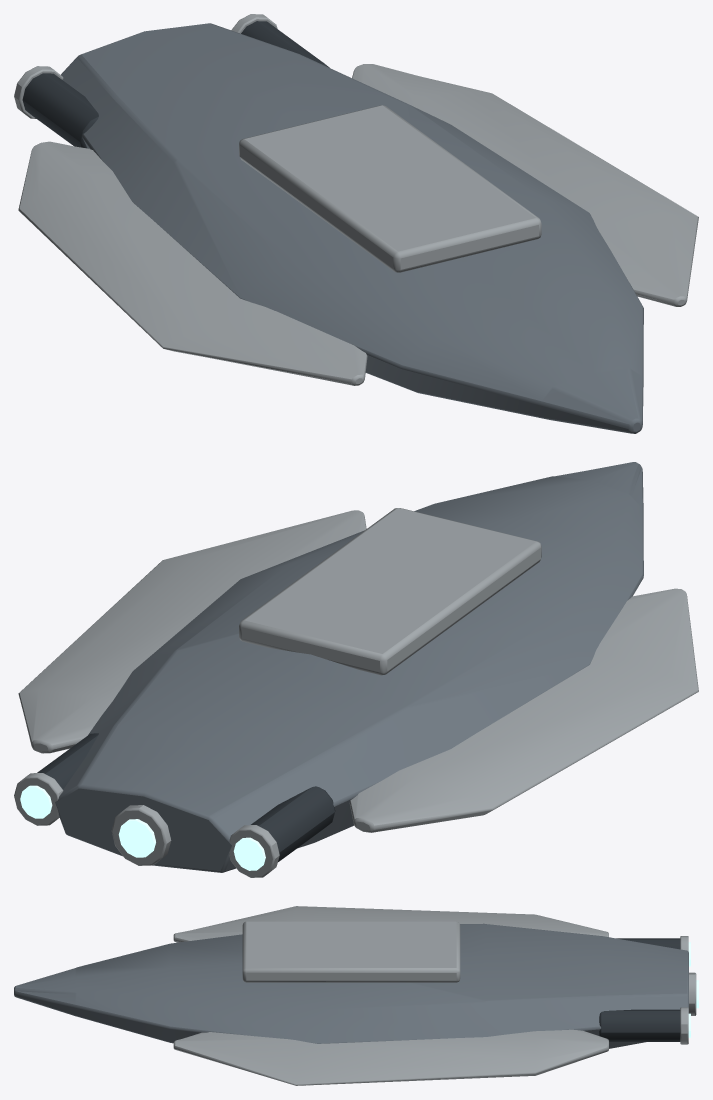
File: QW_CommandShip_LOD2.fbx
3 views of the same model, one above another, from view 1: azimuth 30°, elevation 25°; view 2: azimuth 150°, elevation 25°; view 3: azimuth 270°, elevation 25° (orthographic). The views are drawn at different scales.
Parts seen in each view (by area): view 1: QW_CommandShip_LOD2; view 2: QW_CommandShip_LOD2; view 3: QW_CommandShip_LOD2.
Part boxes in pixels (x1,y1,x2,y2): QW_CommandShip_LOD2: [14, 14, 698, 433]; QW_CommandShip_LOD2: [14, 462, 698, 877]; QW_CommandShip_LOD2: [14, 906, 698, 1085].
Bounding box in the file's own units: 13.82 × 3.29 × 22.33.
